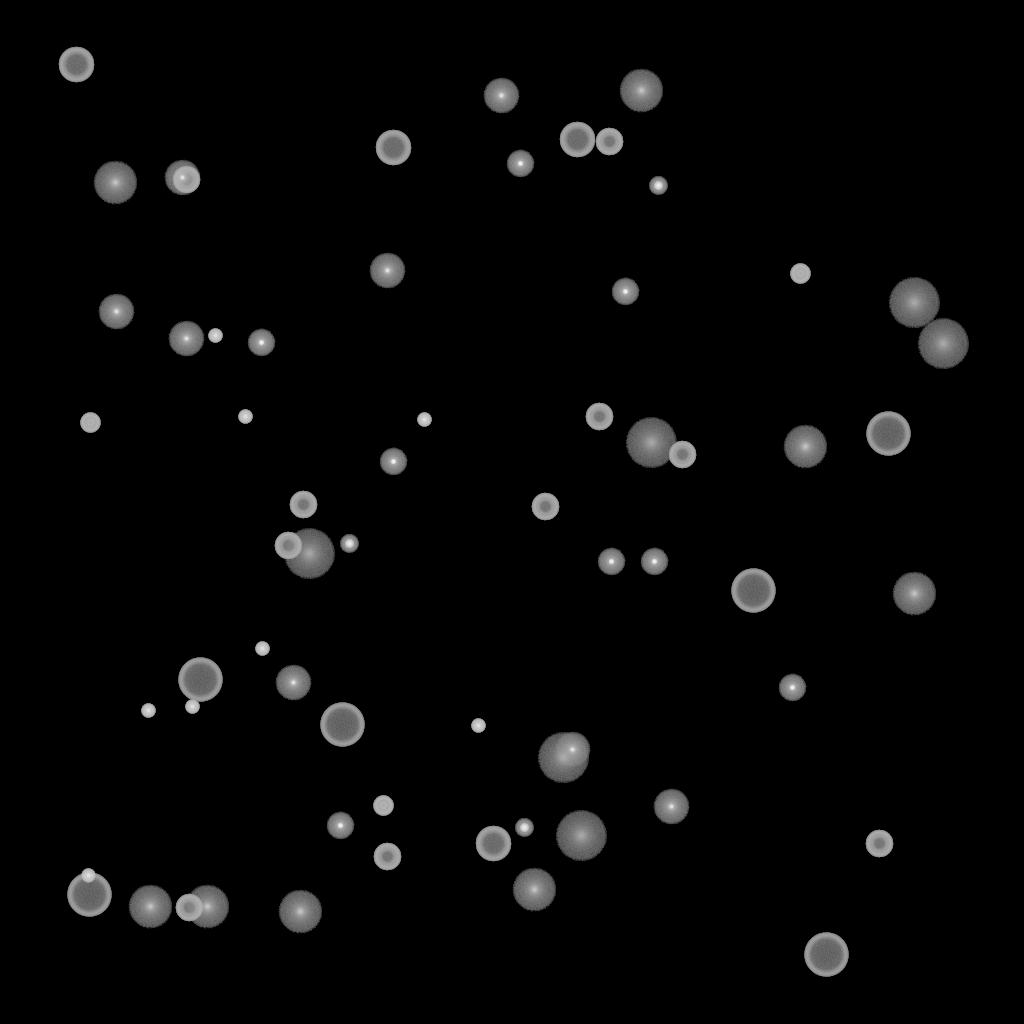depth:-10: (247, 329, 275, 357), (597, 548, 625, 576), (379, 448, 407, 476), (506, 150, 534, 178), (778, 674, 806, 702), (326, 812, 354, 840), (611, 278, 639, 306), (640, 548, 668, 576)
depth:-20: (649, 177, 667, 195), (515, 819, 533, 837), (340, 535, 358, 553)
depth:-30: (81, 869, 95, 883), (208, 329, 222, 343), (255, 642, 269, 656), (238, 410, 252, 424), (141, 704, 155, 718), (471, 719, 485, 733), (417, 413, 431, 427), (185, 700, 199, 714)
depth:-40: (80, 413, 100, 433), (790, 264, 810, 284), (373, 796, 393, 816)
depth:-50: (172, 166, 200, 194), (865, 830, 893, 858), (668, 441, 696, 469), (373, 843, 401, 871), (175, 894, 203, 922), (531, 493, 559, 521), (595, 128, 623, 156), (289, 491, 317, 519), (585, 403, 613, 431), (274, 532, 302, 560)
depth:-60: (475, 826, 511, 862), (559, 122, 595, 158), (375, 130, 411, 166), (58, 47, 94, 83)
depth:-70: (866, 412, 910, 456), (320, 703, 364, 747), (67, 873, 111, 917), (804, 933, 848, 977), (731, 569, 775, 613), (178, 658, 222, 702)
depth:0: (483, 78, 519, 114), (164, 160, 200, 196), (653, 789, 689, 825), (275, 665, 311, 701), (554, 732, 590, 768), (168, 321, 204, 357), (369, 253, 405, 289), (98, 294, 134, 330)
depth:10: (512, 868, 556, 912), (128, 885, 172, 929), (278, 890, 322, 934), (783, 425, 827, 469), (619, 69, 663, 113), (185, 885, 229, 929), (892, 572, 936, 616), (93, 161, 137, 205)
depth:20: (283, 529, 335, 579), (537, 733, 589, 783), (625, 418, 677, 468), (888, 278, 940, 328), (917, 319, 969, 369), (555, 811, 607, 861)
